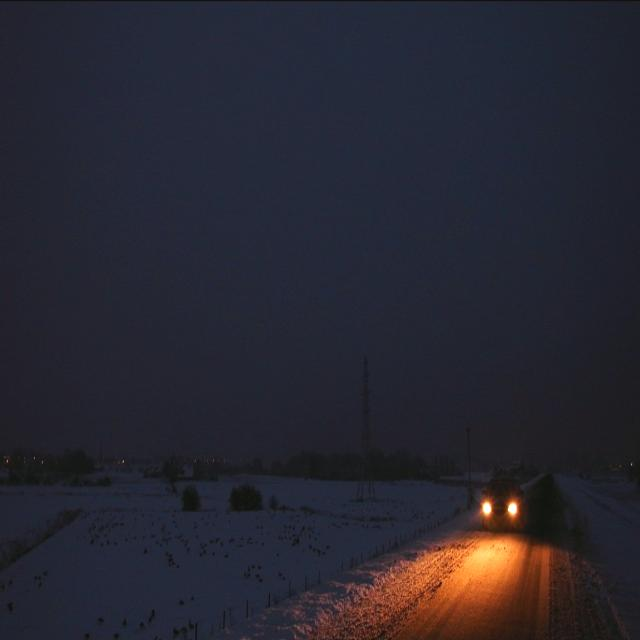Car: (476, 466, 526, 542)
